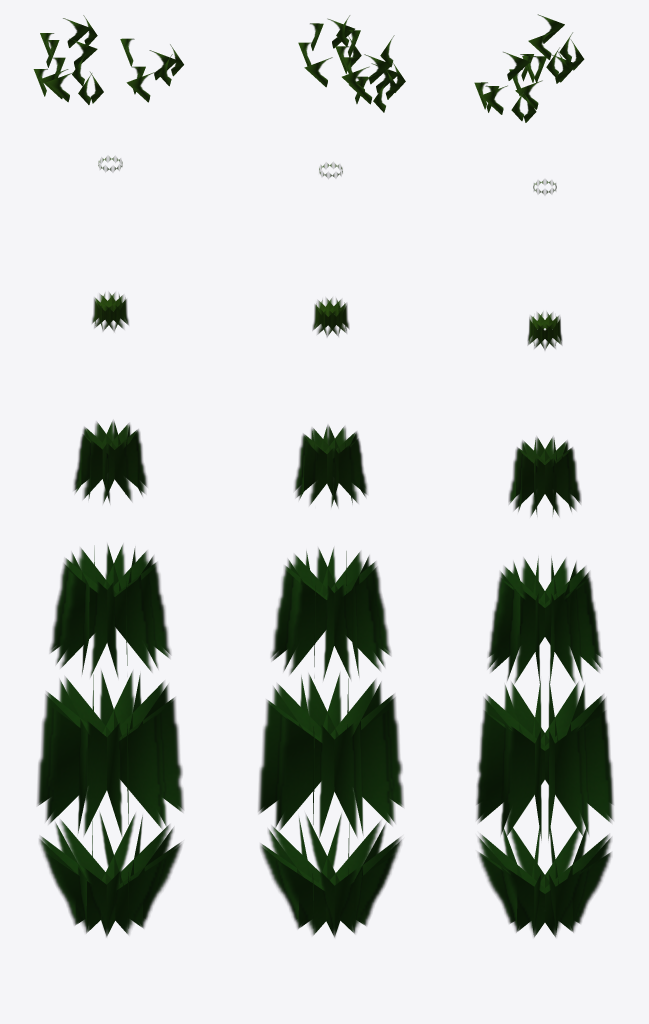
The model's file is Grass_Bottlebrush.glb.
3 views of the same model, side by side, from view 1: azimuth 30°, elevation 25°; view 2: azimuth 150°, elevation 25°; view 3: azimuth 270°, elevation 25° (orthographic). The views are drawn at different scales.
Parts seen in each view (by area): view 1: Grass_Bottlebrush; view 2: Grass_Bottlebrush; view 3: Grass_Bottlebrush.
Boxes of the visible parts, box(x1,y1,x2,y2) form: Grass_Bottlebrush: box(33, 15, 183, 936); Grass_Bottlebrush: box(258, 15, 405, 937); Grass_Bottlebrush: box(474, 14, 613, 937).
Size of the model in its own units: 0.22 by 1.2 by 0.2092.
Materials: 1 (1 with a texture image).
